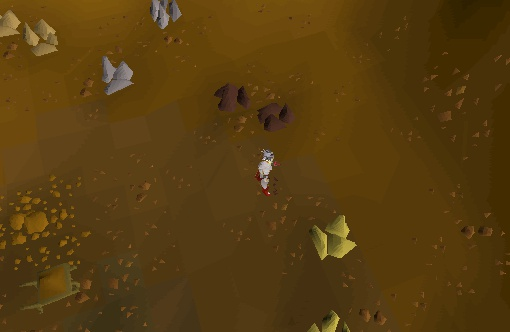gold: (302, 208, 369, 269)
iron: (253, 97, 304, 138), (211, 76, 262, 117)
tin: (89, 51, 145, 102)
